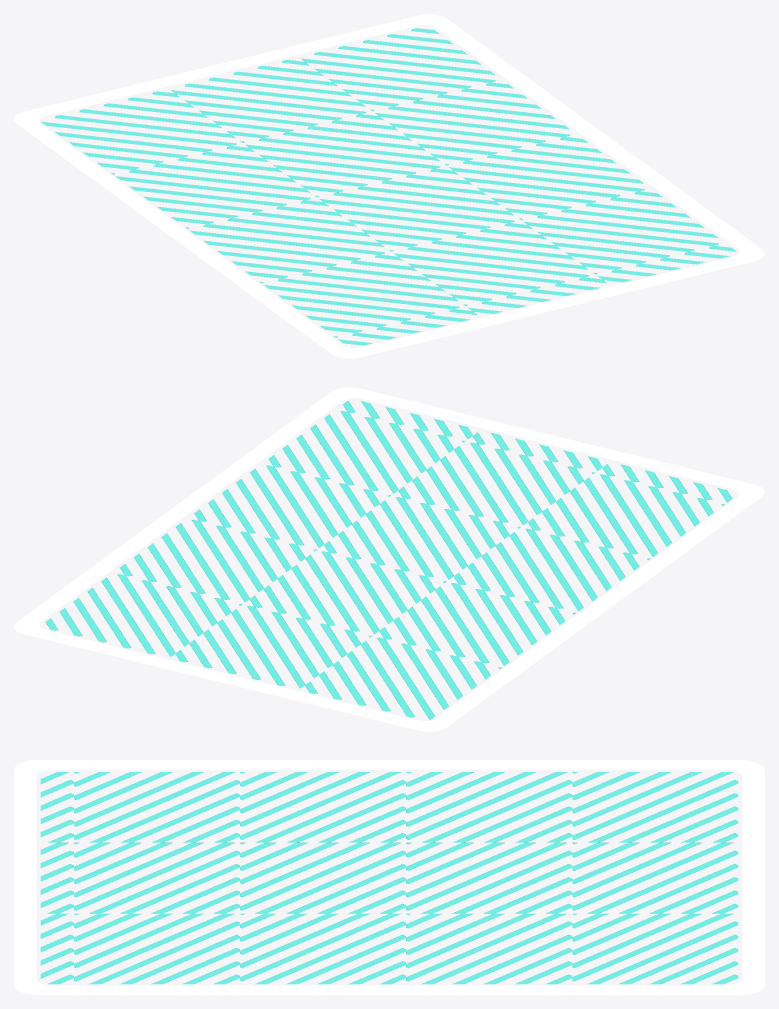
Rendered from mwx_hl_t.glb.
3 views of the same model, one above another, from view 1: azimuth 30°, elevation 25°; view 2: azimuth 150°, elevation 25°; view 3: azimuth 270°, elevation 25° (orthographic). The views are drawn at different scales.
Parts seen in each view (by area): view 1: mwx_hl_t; view 2: mwx_hl_t; view 3: mwx_hl_t.
Part boxes in pixels (<box>): mwx_hl_t: <box>14,14,764,358</box>; mwx_hl_t: <box>14,387,764,731</box>; mwx_hl_t: <box>14,760,764,994</box>.
Bounding box in the file's own units: 7.3 × 0.01 × 9.87.
Materials: 2 (1 with a texture image).
